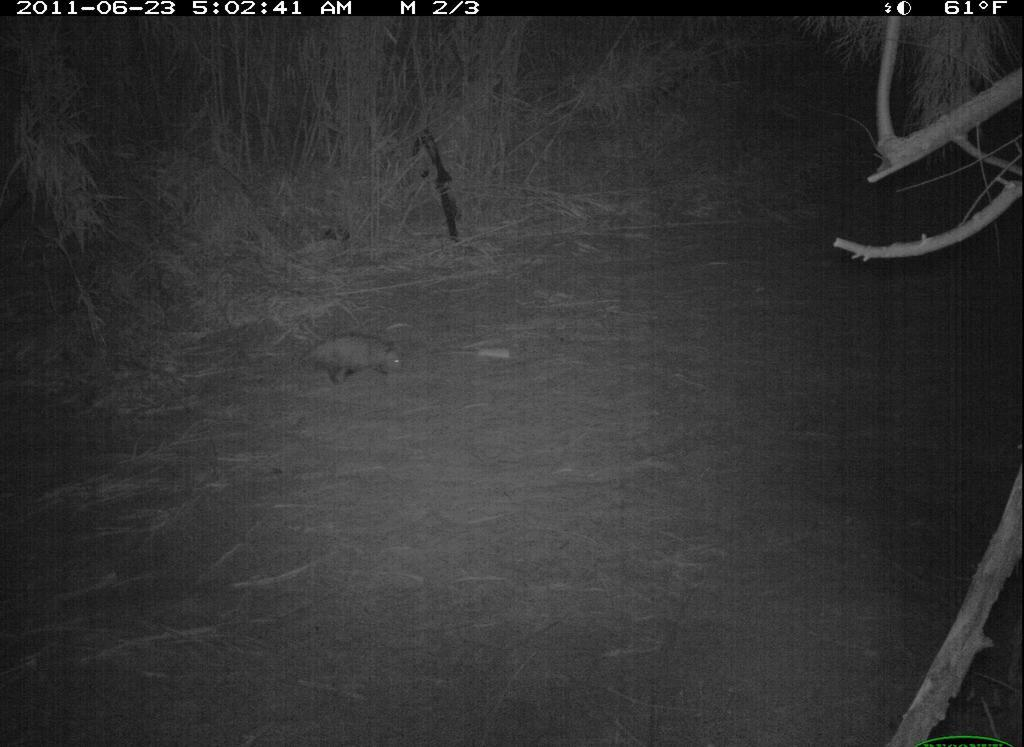opossum: (276, 329, 411, 397)
